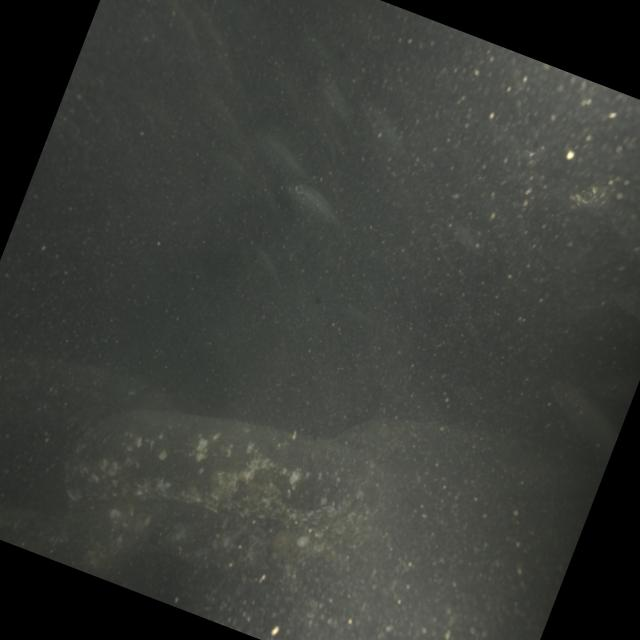ChainLink: (337, 421, 597, 586), (68, 413, 366, 518), (23, 360, 171, 442)
